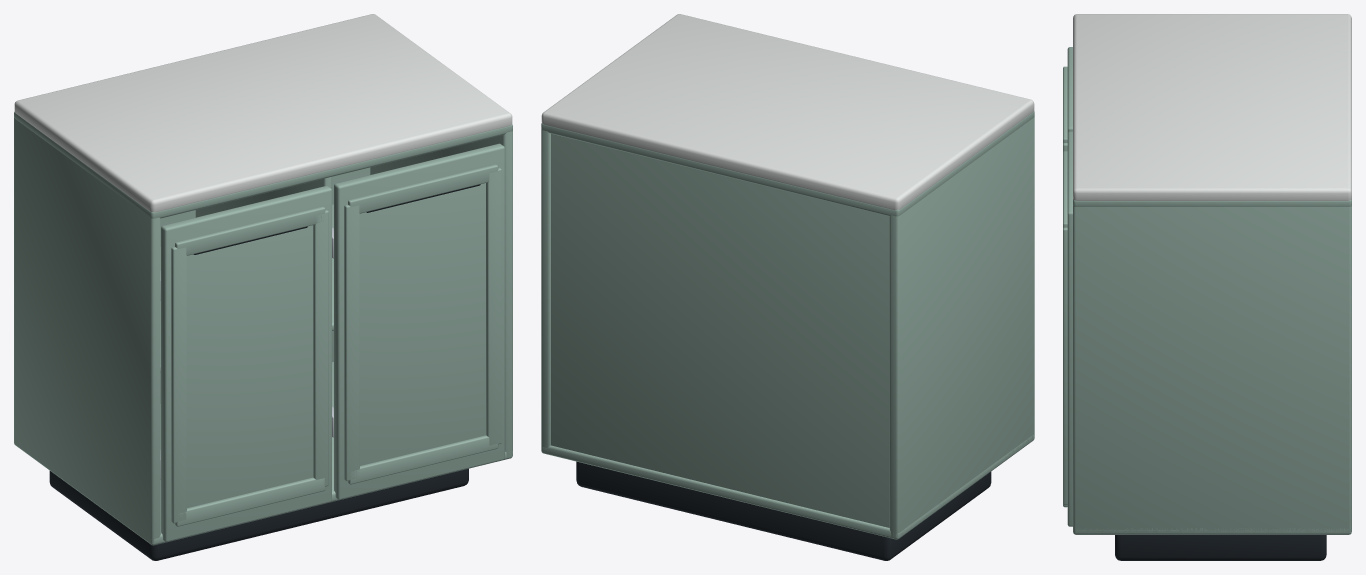
Rendered from arched-base-cabinet.glb.
3 views of the same model, side by side, from view 1: azimuth 30°, elevation 25°; view 2: azimuth 150°, elevation 25°; view 3: azimuth 270°, elevation 25° (orthographic).
Parts seen in each view (by area): view 1: catalog_surface_RealismUV, catalog_surface_UVMap; view 2: catalog_surface_RealismUV, catalog_surface_UVMap; view 3: catalog_surface_RealismUV, catalog_surface_UVMap.
Boxes of the visible parts, x1,y1,x2,y2 form: catalog_surface_RealismUV: (14,112,512,545); catalog_surface_UVMap: (14,14,512,560); catalog_surface_RealismUV: (541,111,1034,539); catalog_surface_UVMap: (541,14,1034,560); catalog_surface_RealismUV: (1063,47,1351,534); catalog_surface_UVMap: (1073,14,1351,560).
Size of the model in its own units: 0.9 by 0.91 by 0.62.
